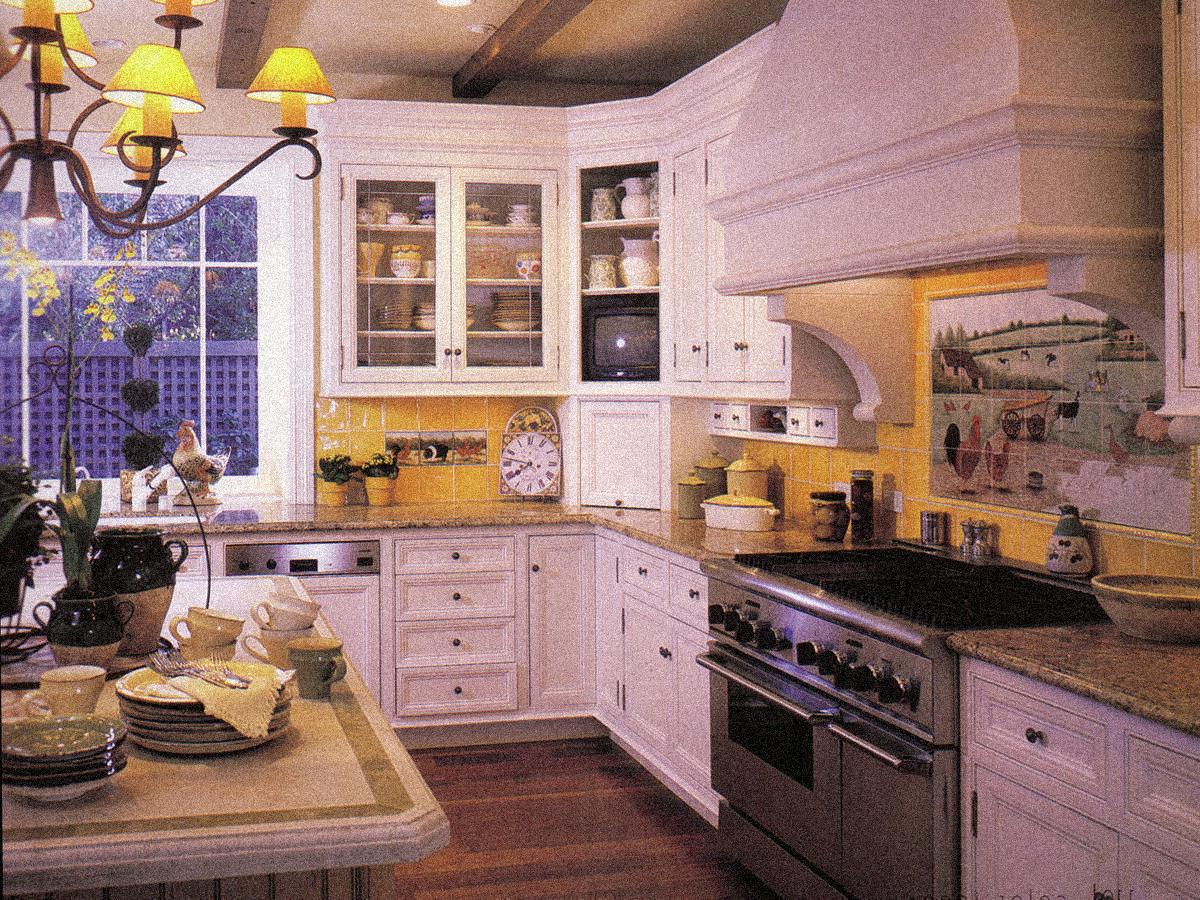Electrodomestico: (715, 566, 949, 874)
